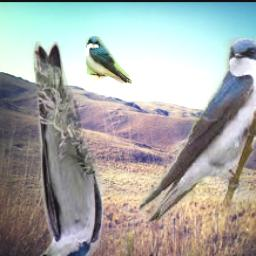Swallow: (139, 38, 256, 223), (31, 41, 103, 256), (85, 37, 133, 85)
